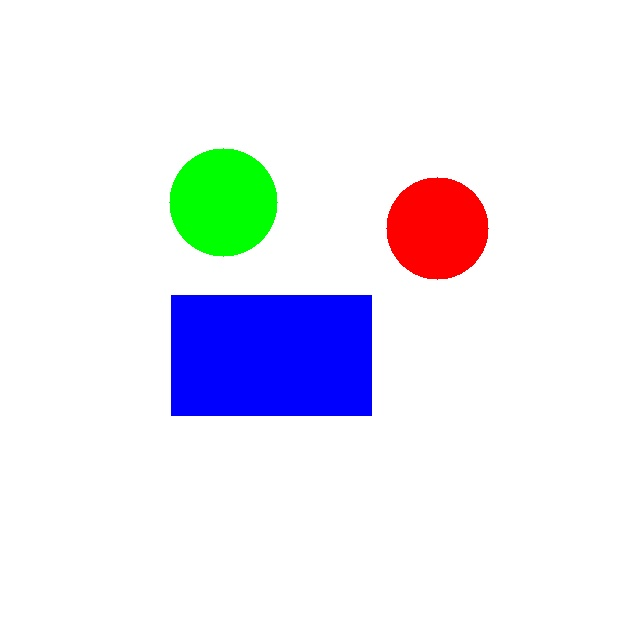cartao: (171, 295, 371, 415)
rosca_externa: (169, 148, 277, 256)
rosca_interna: (386, 177, 488, 279)
